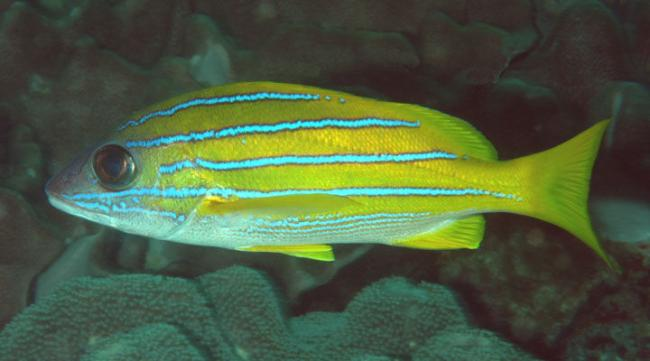fish: (44, 81, 613, 266)
